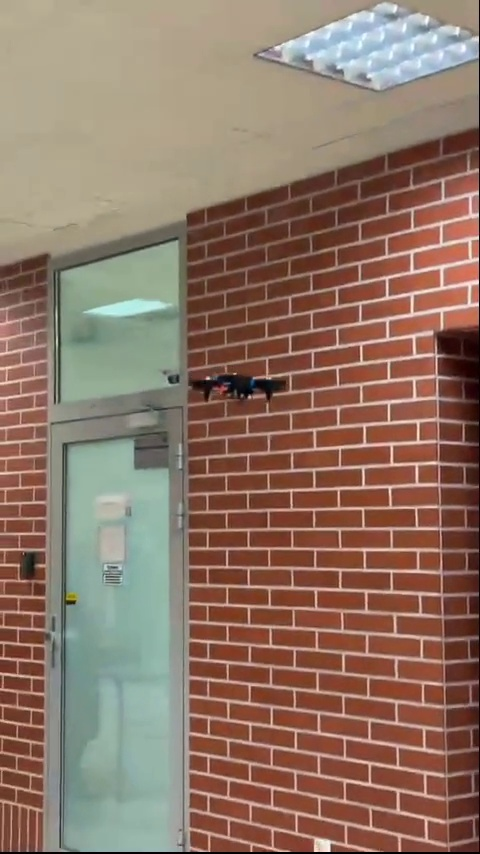drone: (188, 369, 297, 405)
